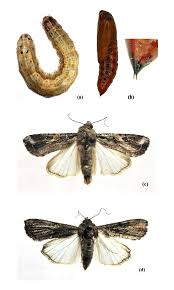larva: (14, 9, 83, 100)
moth: (18, 107, 159, 189), (11, 210, 162, 275)
pupa: (95, 5, 120, 98), (125, 25, 165, 82)
